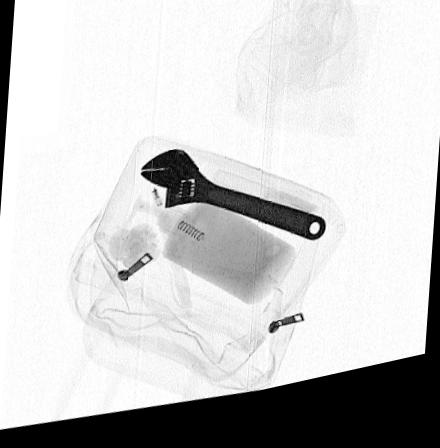Wrench: (138, 156, 326, 256)
